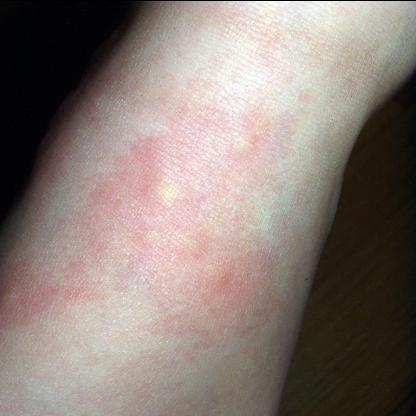Fire ant: (132, 162, 191, 224), (223, 124, 268, 164), (202, 256, 236, 292)
